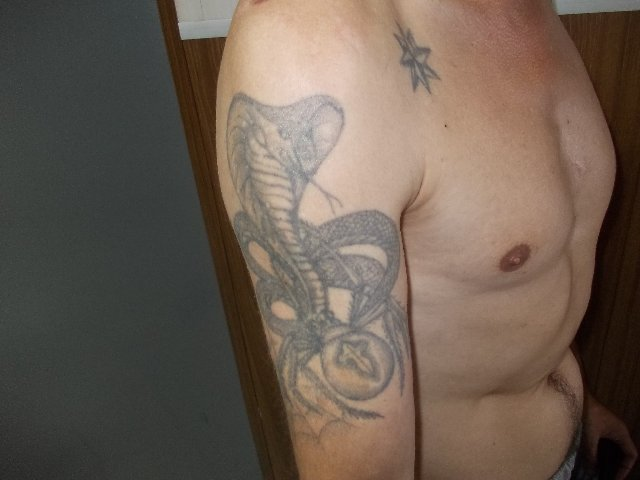tatu7_zmeya: (198, 86, 420, 444)
tatu9_krest: (387, 18, 454, 97)
